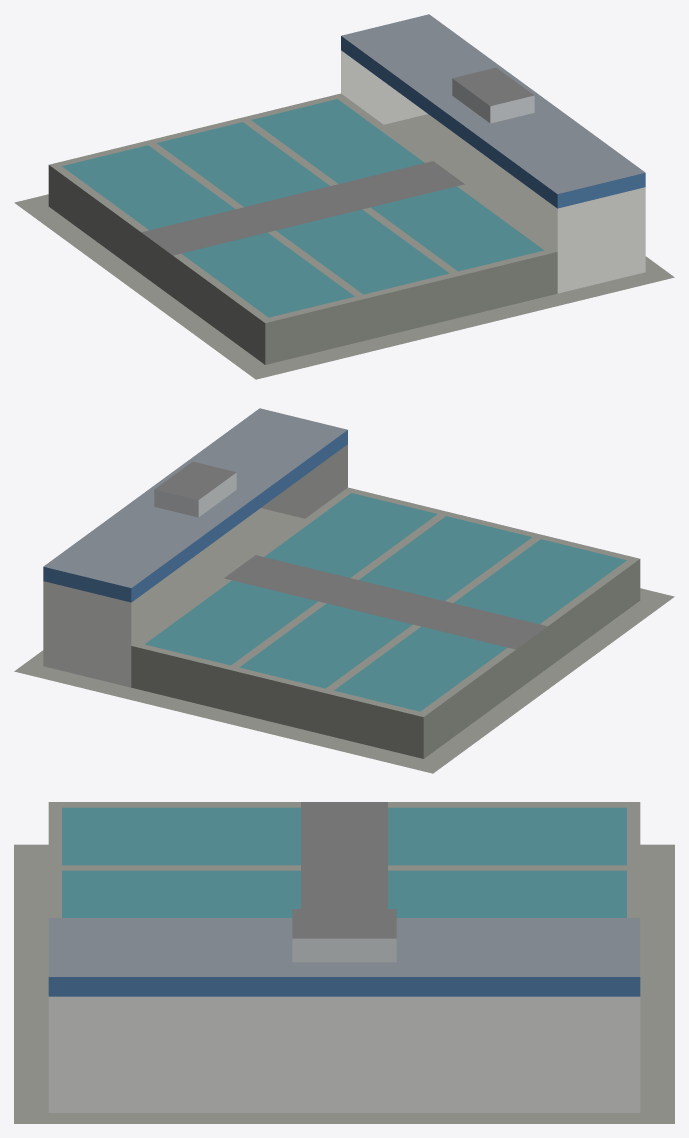
Rendered from mashup-filter-far.fbx.
The picture shows the model from 3 angles, top to bottom: view 1: azimuth 30°, elevation 25°; view 2: azimuth 150°, elevation 25°; view 3: azimuth 270°, elevation 25°; orthographic projection. The views are drawn at different scales.
Visible parts, largest first — view 1: a1074/0/mashup-filter-far; view 2: a1074/0/mashup-filter-far; view 3: a1074/0/mashup-filter-far.
Part boxes in pixels (x1,y1,x2,y2): a1074/0/mashup-filter-far: [14, 14, 674, 379]; a1074/0/mashup-filter-far: [14, 408, 674, 773]; a1074/0/mashup-filter-far: [14, 802, 674, 1123].
Bounding box in the file's own units: 15.2 × 4.2 × 15.2.
